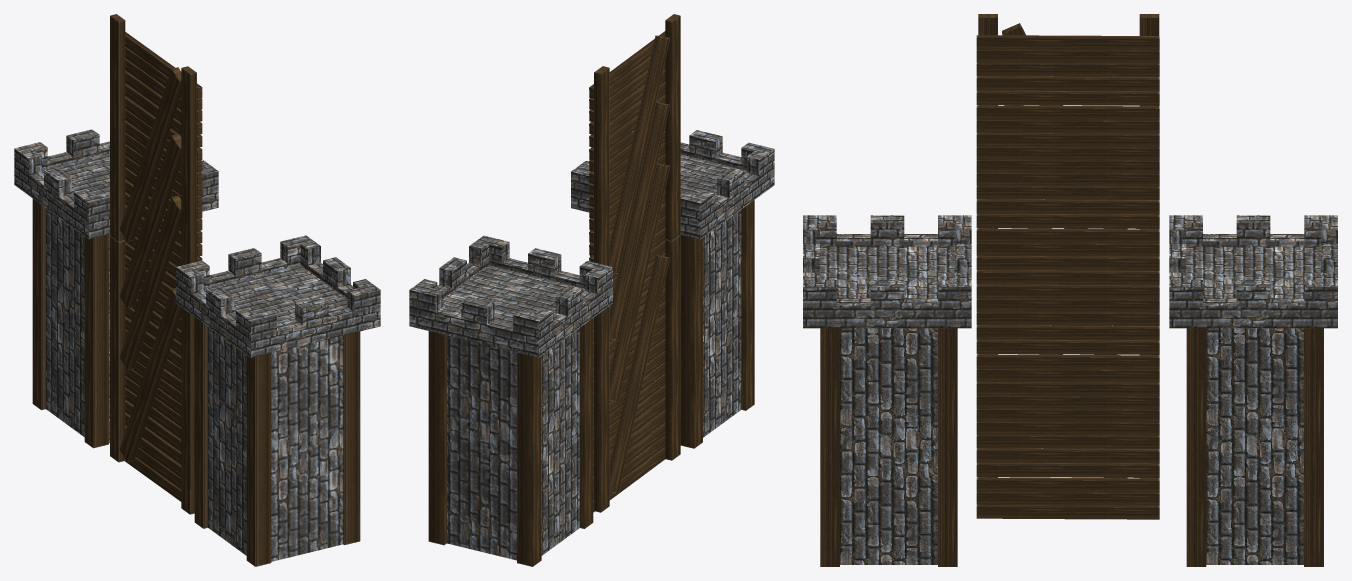
Rendered from drawbridge.fbx.
3 renders of one model, left to right at view 1: azimuth 30°, elevation 25°; view 2: azimuth 150°, elevation 25°; view 3: azimuth 270°, elevation 25°, orthographic. The views are drawn at different scales.
Visible parts, largest first — view 1: pCube7, pCube8, pCube1, pCube2, pCube11, pCube5, pCube12, pCube34, pCube13, pCube35, pCube36, pCube56 (+19 smaller); view 2: pCube1, pCube2, pCube8, pCube7, pCube4, pCube10, pCube3, pCube15, pCube36, pCube56, pCube14, pCube35 (+19 smaller); view 3: pCube1, pCube7, pCube2, pCube8, pCube6, pCube3, pCube9, pCube12, pCube20, pCube31, pCube46, pCube49 (+31 smaller).
Boxes of the visible parts, x1,y1,x2,y2 form: pCube7: (208, 327, 343, 561); pCube8: (176, 235, 380, 357); pCube1: (46, 208, 109, 443); pCube2: (14, 129, 218, 239); pCube11: (246, 353, 271, 566); pCube5: (84, 234, 108, 448); pCube12: (343, 331, 360, 545); pCube34: (110, 14, 125, 241); pCube13: (110, 236, 125, 462); pCube35: (181, 66, 196, 265); pCube36: (119, 67, 181, 241); pCube56: (119, 134, 181, 308); pCube1: (447, 328, 579, 560); pCube2: (409, 235, 612, 357); pCube8: (571, 130, 774, 239); pCube7: (703, 210, 741, 437); pCube4: (517, 352, 541, 566); pCube10: (680, 235, 702, 448); pCube3: (428, 331, 446, 545); pCube15: (609, 255, 669, 493); pCube36: (609, 35, 669, 273); pCube56: (609, 102, 669, 340); pCube14: (665, 235, 680, 460); pCube35: (665, 14, 680, 240); pCube1: (1206, 328, 1303, 564); pCube7: (840, 328, 937, 564); pCube2: (1169, 215, 1337, 328); pCube8: (803, 215, 971, 328); pCube6: (1186, 328, 1206, 566); pCube3: (1304, 328, 1323, 566); pCube9: (938, 328, 957, 566); pCube12: (820, 328, 839, 566); pCube20: (976, 448, 1159, 463); pCube31: (976, 354, 1159, 369); pCube46: (976, 35, 1159, 50); pCube49: (976, 76, 1159, 91).
Size of the model in its own units: 9.04 by 29.4 by 28.54.
